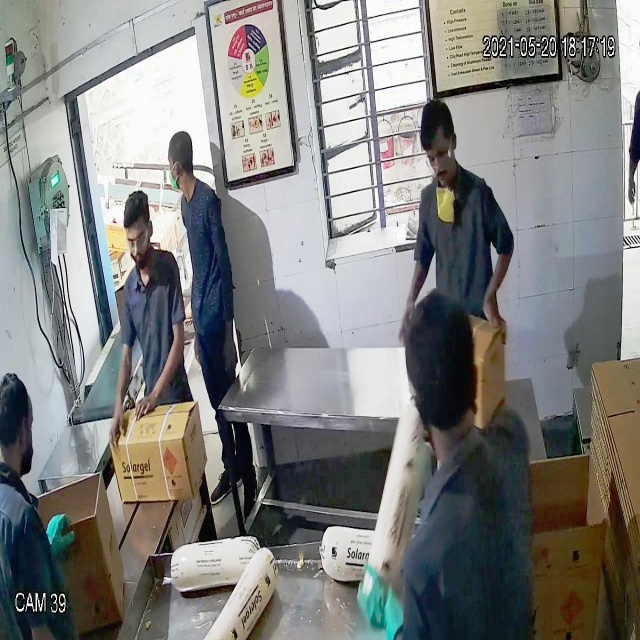Gafas: (420, 140, 459, 171), (122, 222, 150, 252)
